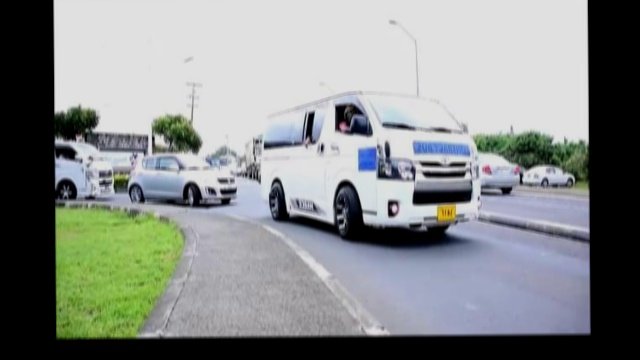van: (253, 98, 483, 245)
